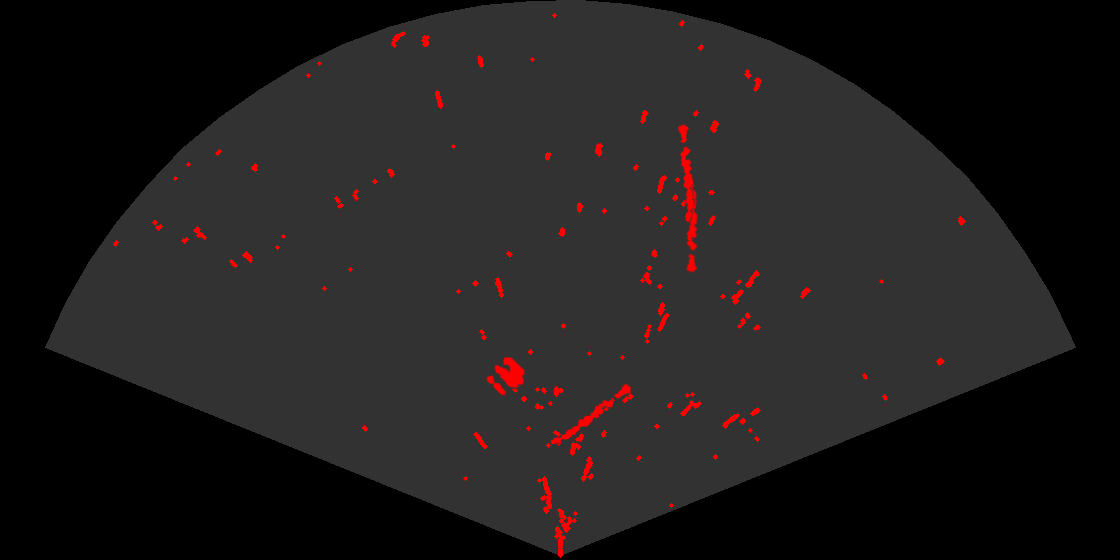ball: (485, 355, 527, 397)
chain: (549, 382, 633, 446), (676, 122, 696, 223), (685, 176, 699, 273)
